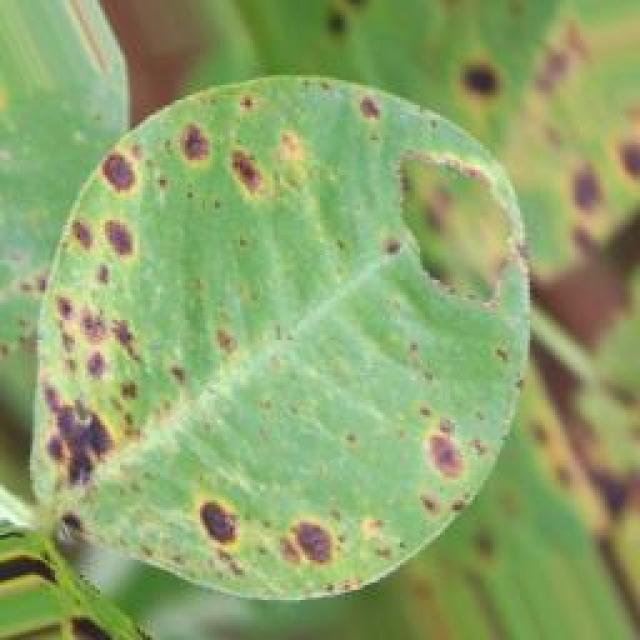Yellowish: (28, 66, 520, 639)
